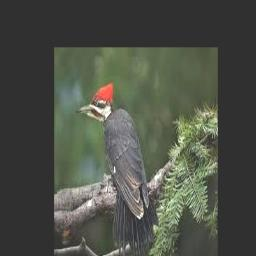Woodpecker: (77, 81, 158, 256)
